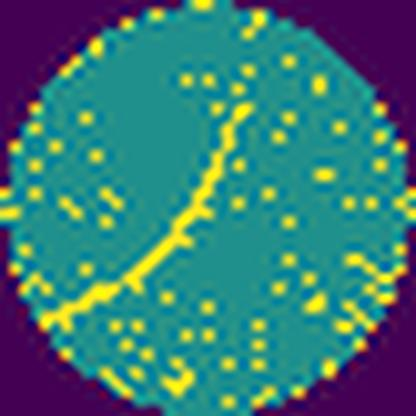Scratch: (37, 99, 257, 333)
